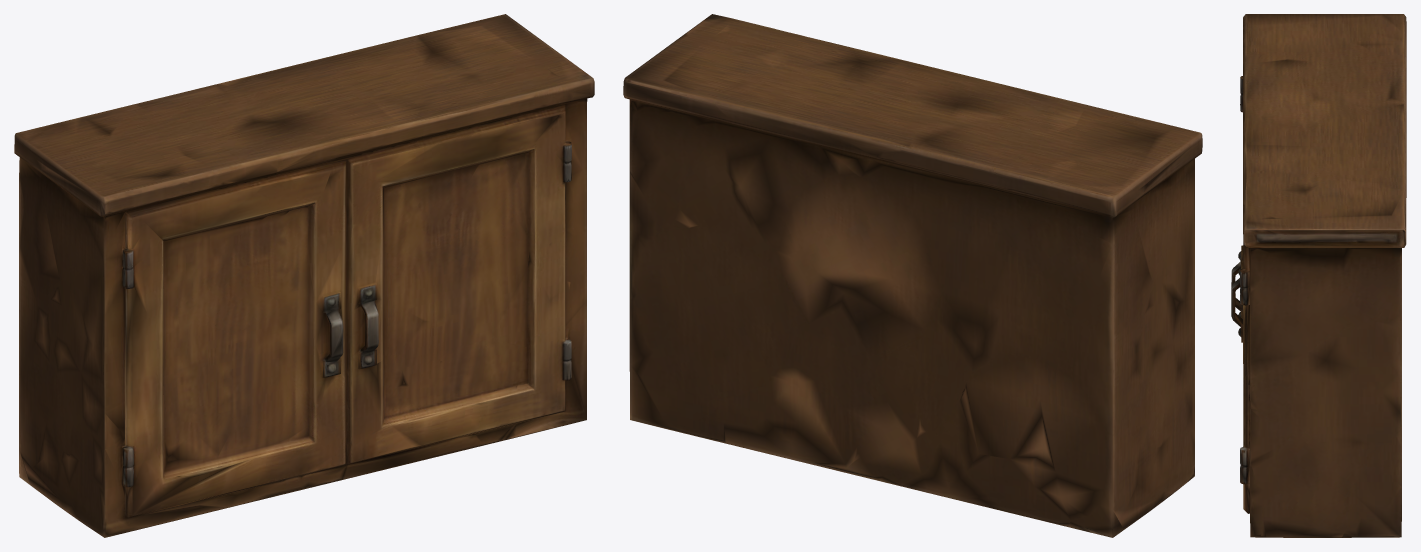
File: AlacenaCerrada.glb
3 renders of one model, left to right at view 1: azimuth 30°, elevation 25°; view 2: azimuth 150°, elevation 25°; view 3: azimuth 270°, elevation 25°, orthographic. The views are drawn at different scales.
Visible parts, largest first — view 1: node_0; view 2: node_0; view 3: node_0.
Boxes of the visible parts, x1,y1,x2,y2 form: node_0: (14, 14, 594, 537); node_0: (623, 14, 1202, 537); node_0: (1231, 14, 1406, 537).
Size of the model in its own units: 0.9628 by 0.6434 by 0.3293.
1 material, 1 textured.
